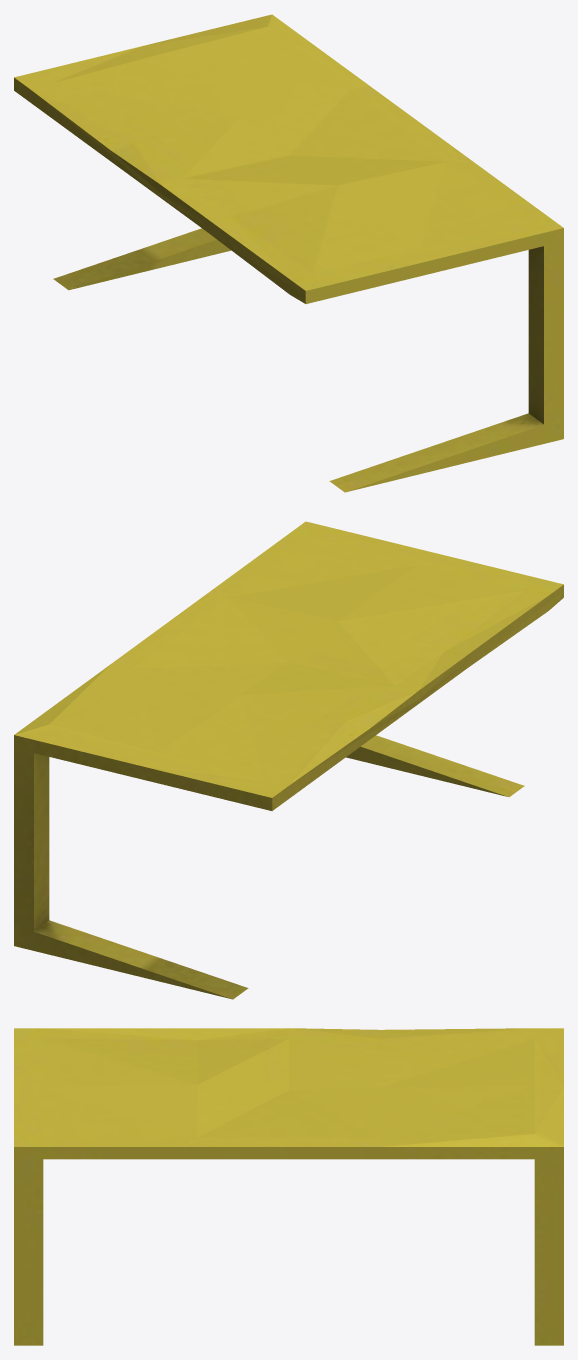
File: Desk.fbx
3 renders of one model, top to bottom at view 1: azimuth 30°, elevation 25°; view 2: azimuth 150°, elevation 25°; view 3: azimuth 270°, elevation 25°, orthographic. The views are drawn at different scales.
Visible parts, largest first — view 1: Desk; view 2: Desk; view 3: Desk.
Part boxes in pixels (x1,y1,x2,y2): Desk: [14, 14, 563, 492]; Desk: [14, 521, 563, 999]; Desk: [14, 1028, 563, 1345].
Size of the model in its own units: 150 by 120 by 294.
